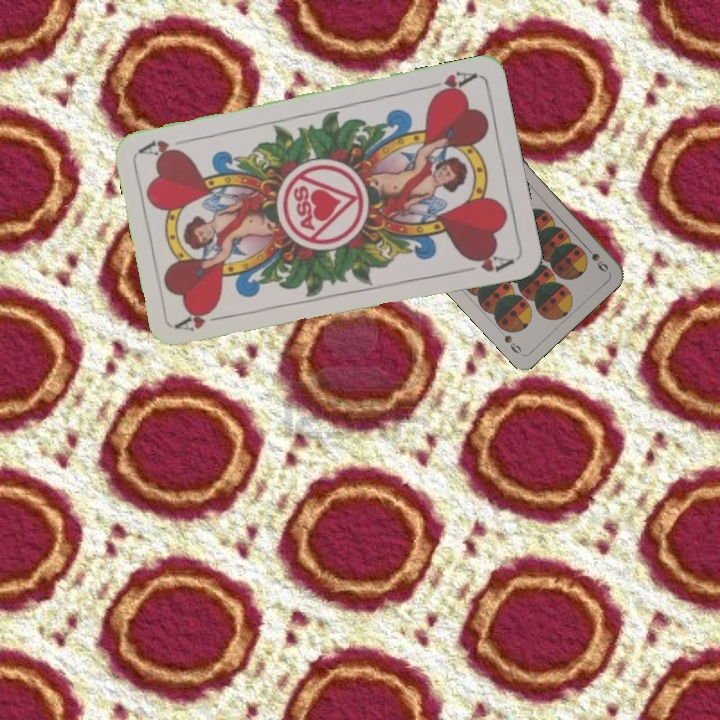HA: (421, 67, 480, 99), (173, 306, 233, 334)
S9: (580, 241, 611, 274)
